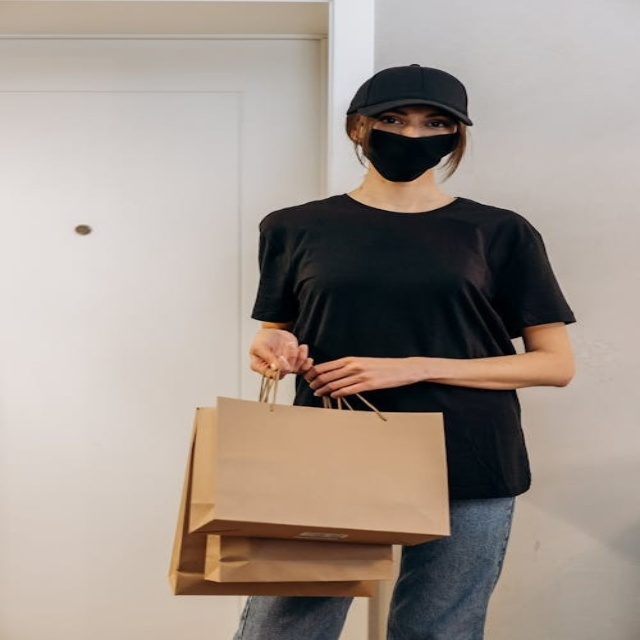Mascara: (362, 124, 460, 181)
Sin_gafas: (374, 111, 454, 130)
Sin_guantes: (301, 353, 416, 399), (251, 326, 315, 378)
